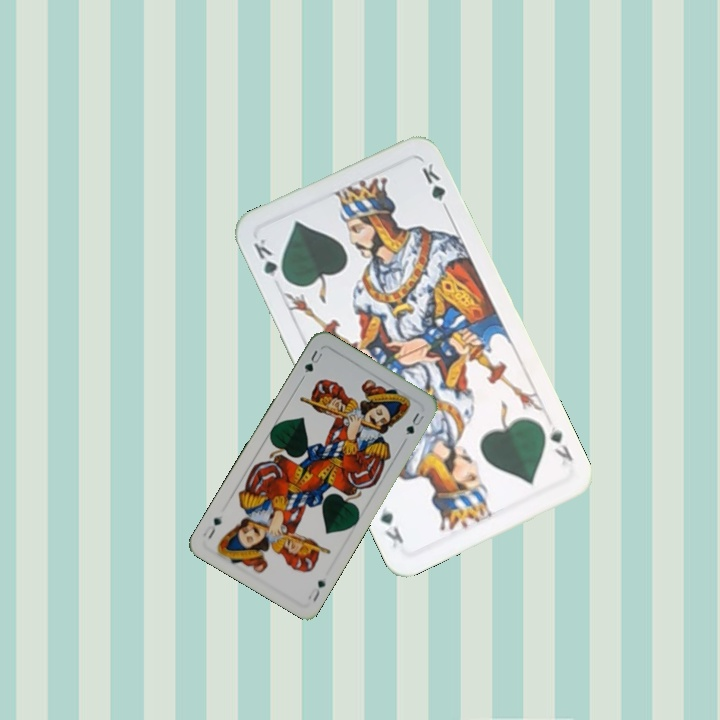GK: (249, 234, 290, 285), (546, 422, 576, 464)
GU: (298, 346, 325, 381), (304, 576, 328, 604)
